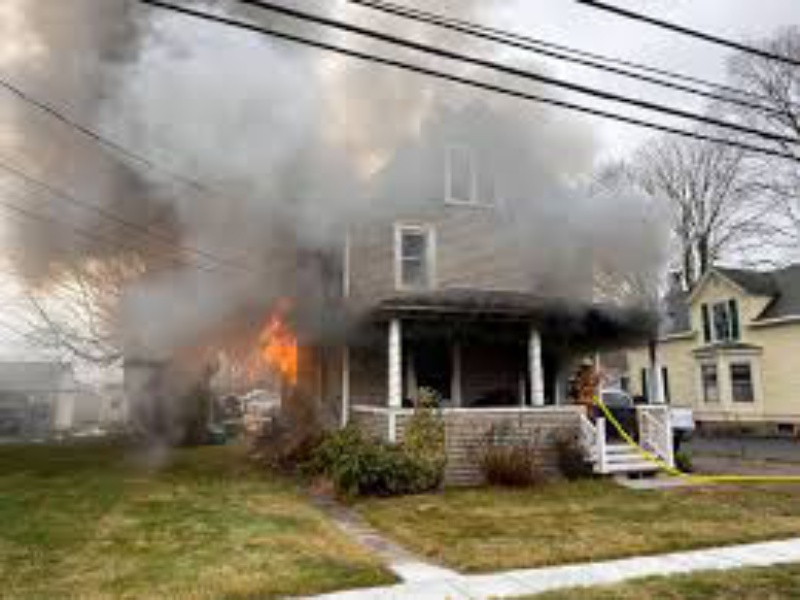fire: (247, 305, 302, 396)
